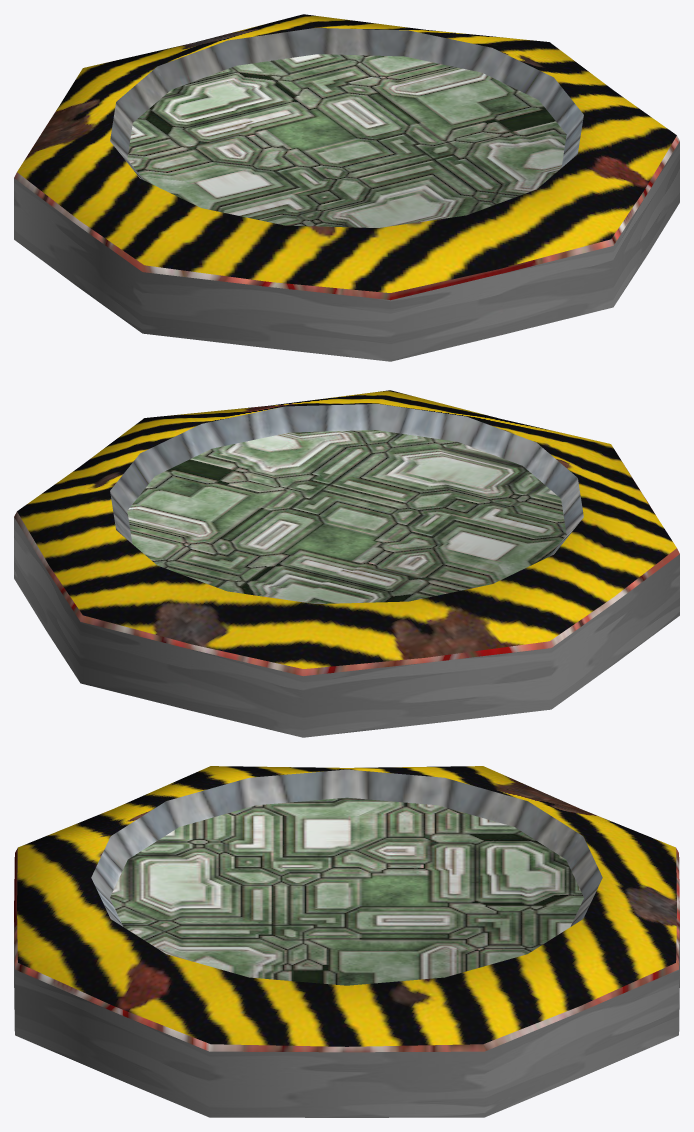
File: mountSmallExt.obj
3 renders of one model, top to bottom at view 1: azimuth 30°, elevation 25°; view 2: azimuth 150°, elevation 25°; view 3: azimuth 270°, elevation 25°, orthographic. The views are drawn at different scales.
Parts seen in each view (by area): view 1: mountS.004_Cylinder.022; view 2: mountS.004_Cylinder.022; view 3: mountS.004_Cylinder.022.
Boxes of the visible parts, left/top/right/bottom form: mountS.004_Cylinder.022: left=14, top=14, right=679, bottom=361; mountS.004_Cylinder.022: left=14, top=390, right=679, bottom=737; mountS.004_Cylinder.022: left=14, top=766, right=679, bottom=1117.
Size of the model in its own units: 0.5422 by 0.0894 by 0.5422.
1 material, 1 textured.
